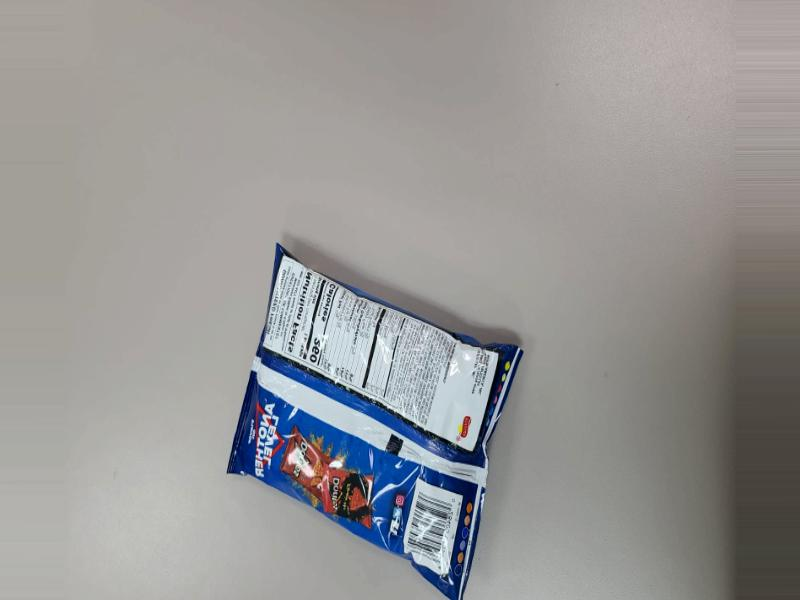doritos: (241, 220, 514, 600)
